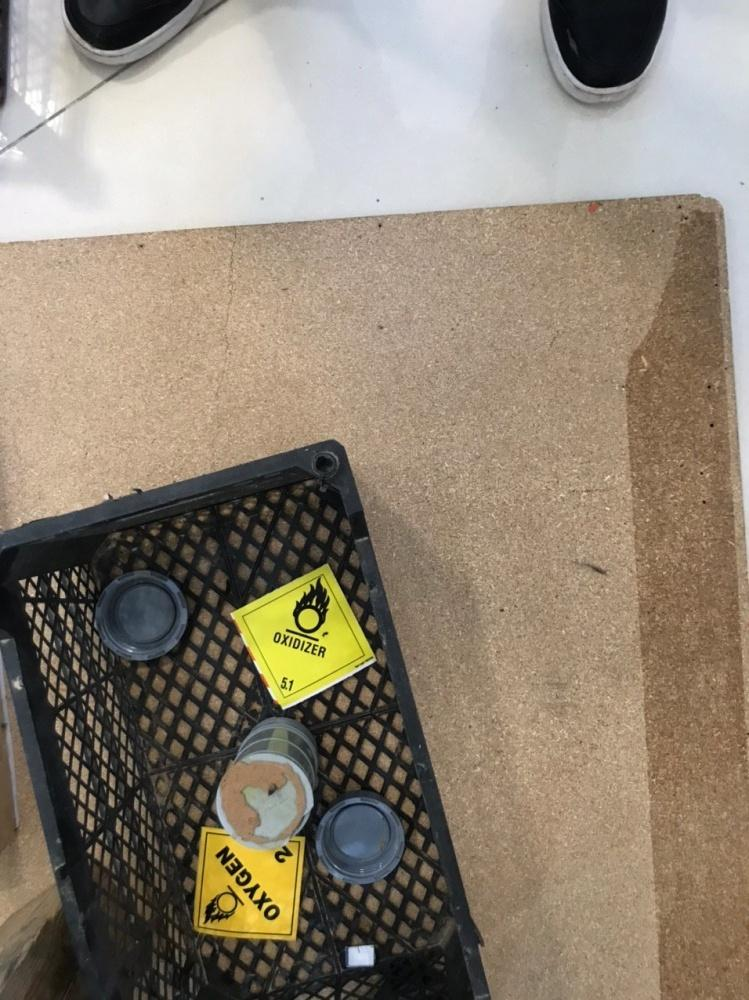oxidizer: (231, 561, 376, 711), (190, 830, 306, 940)
